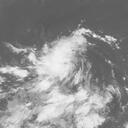cyclone: (30, 43, 94, 118)
